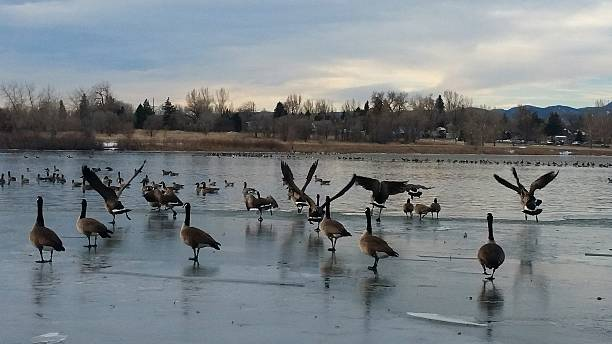goose: (279, 160, 359, 233), (78, 157, 149, 225), (497, 164, 560, 224), (357, 206, 402, 278), (178, 202, 222, 271), (28, 194, 68, 268), (353, 173, 406, 220), (74, 197, 112, 255), (476, 212, 507, 282), (321, 196, 352, 255), (141, 184, 183, 214), (244, 191, 278, 224), (398, 183, 434, 195), (159, 180, 179, 196), (413, 202, 430, 220), (200, 180, 221, 194), (402, 198, 416, 218), (431, 197, 442, 219), (6, 170, 16, 183), (20, 173, 30, 186), (44, 166, 52, 182), (70, 178, 82, 188), (116, 169, 124, 184), (224, 179, 235, 188), (36, 172, 45, 182), (160, 168, 171, 176), (320, 179, 332, 186), (194, 182, 200, 195), (1, 172, 6, 186), (170, 170, 180, 177), (51, 172, 57, 182), (61, 174, 66, 184), (314, 175, 321, 182), (57, 173, 61, 181)
